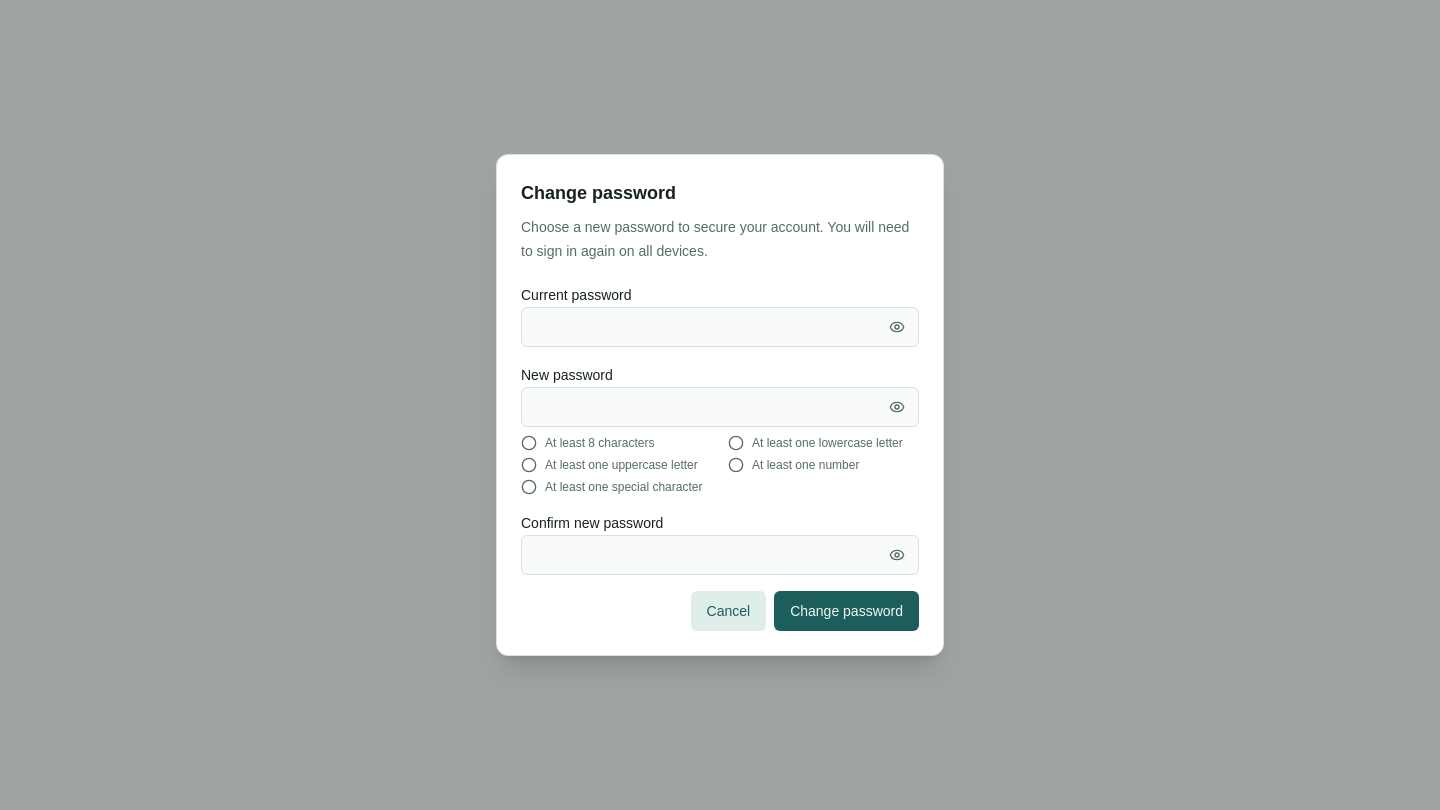
Test: change password dialog › prevents submission until lowercase and uppercase letters are included
The width and height of the screenshot is (1440, 810).
Type "Current1!" into the password field labelled "Current password". click: (720, 327)
box: 521,307 -> 919,347
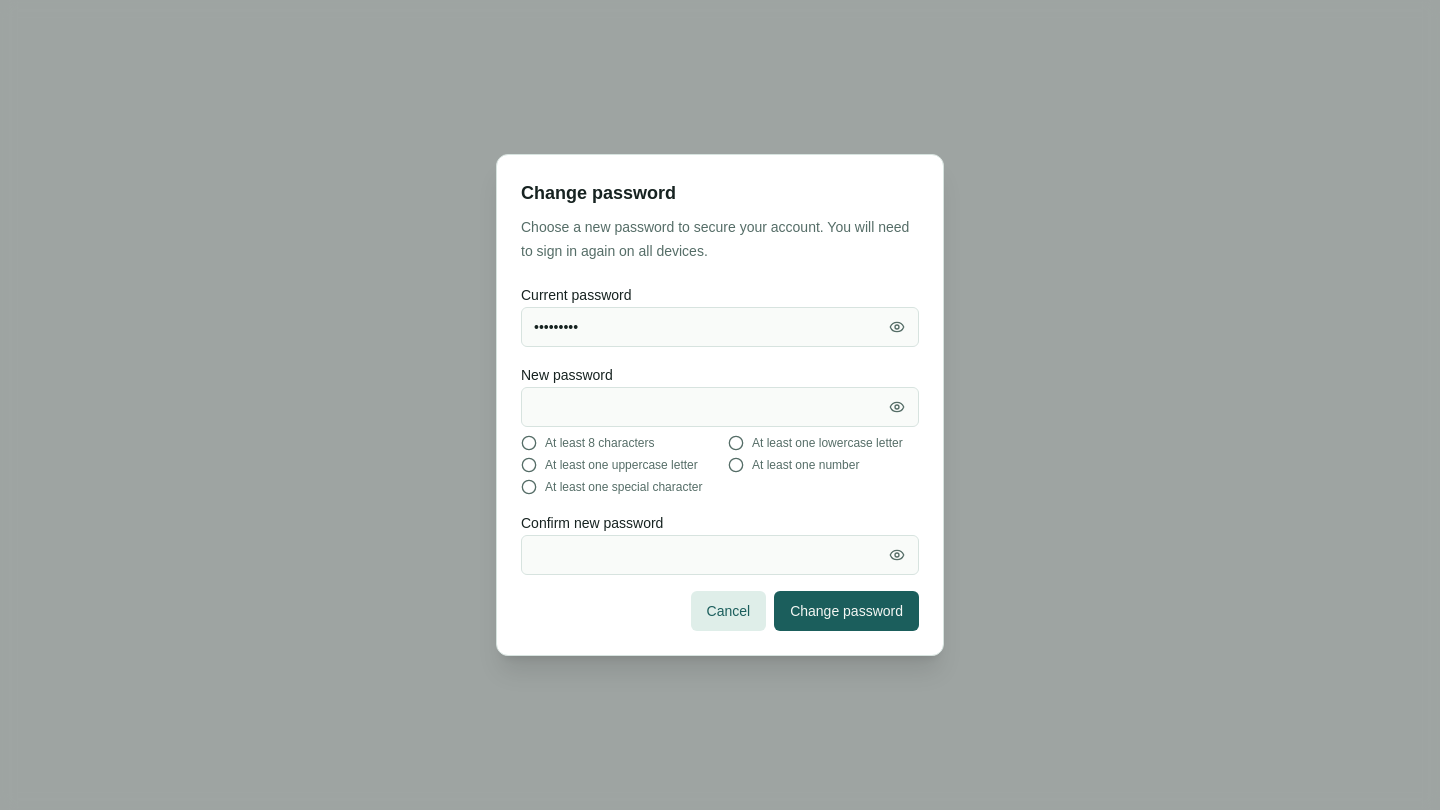
Type "CLINIC123!" into the password field labelled "New password". click: (720, 407)
box: 521,387 -> 919,427
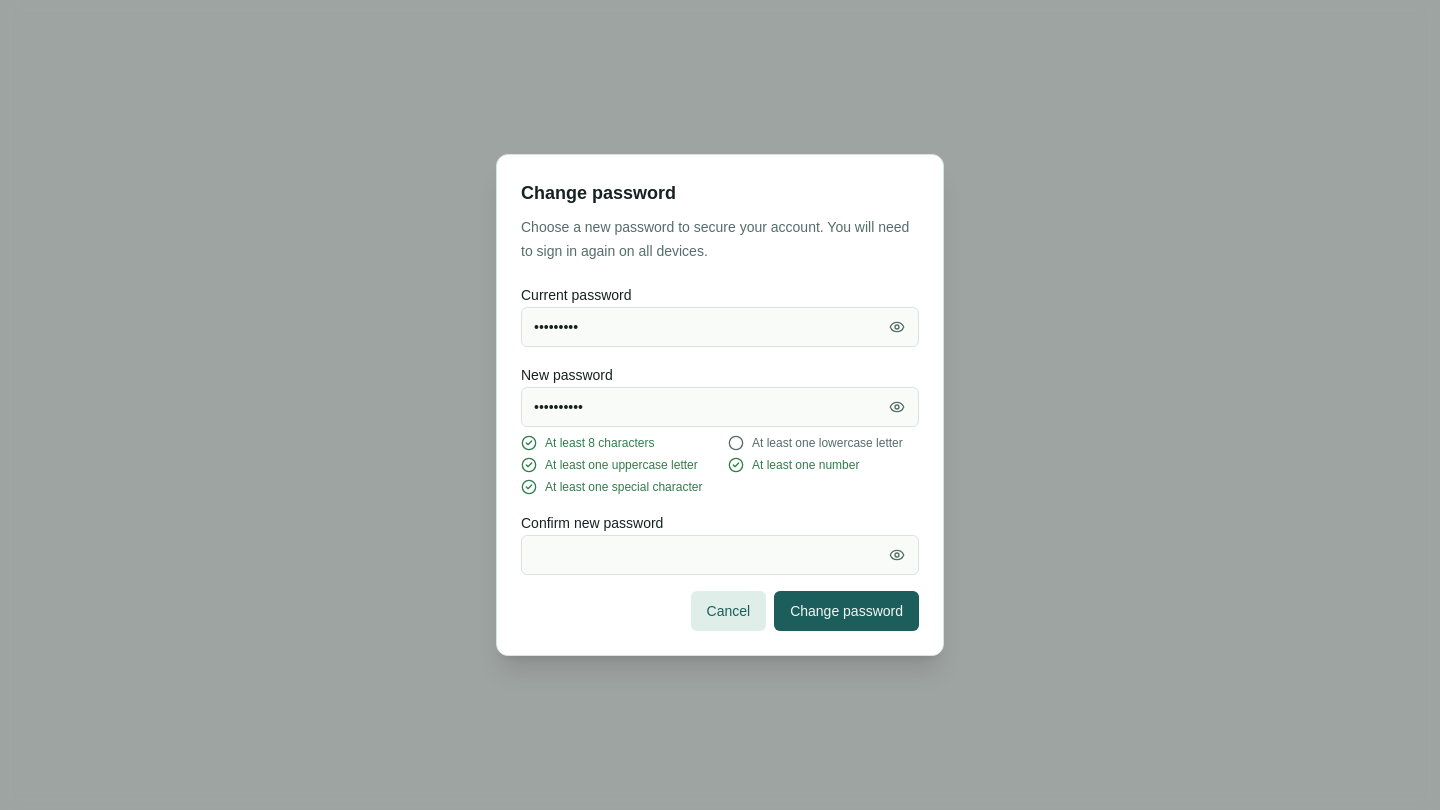
Type "CLINIC123!" into the password field labelled "Confirm new password". click: (720, 555)
box: 521,535 -> 919,575
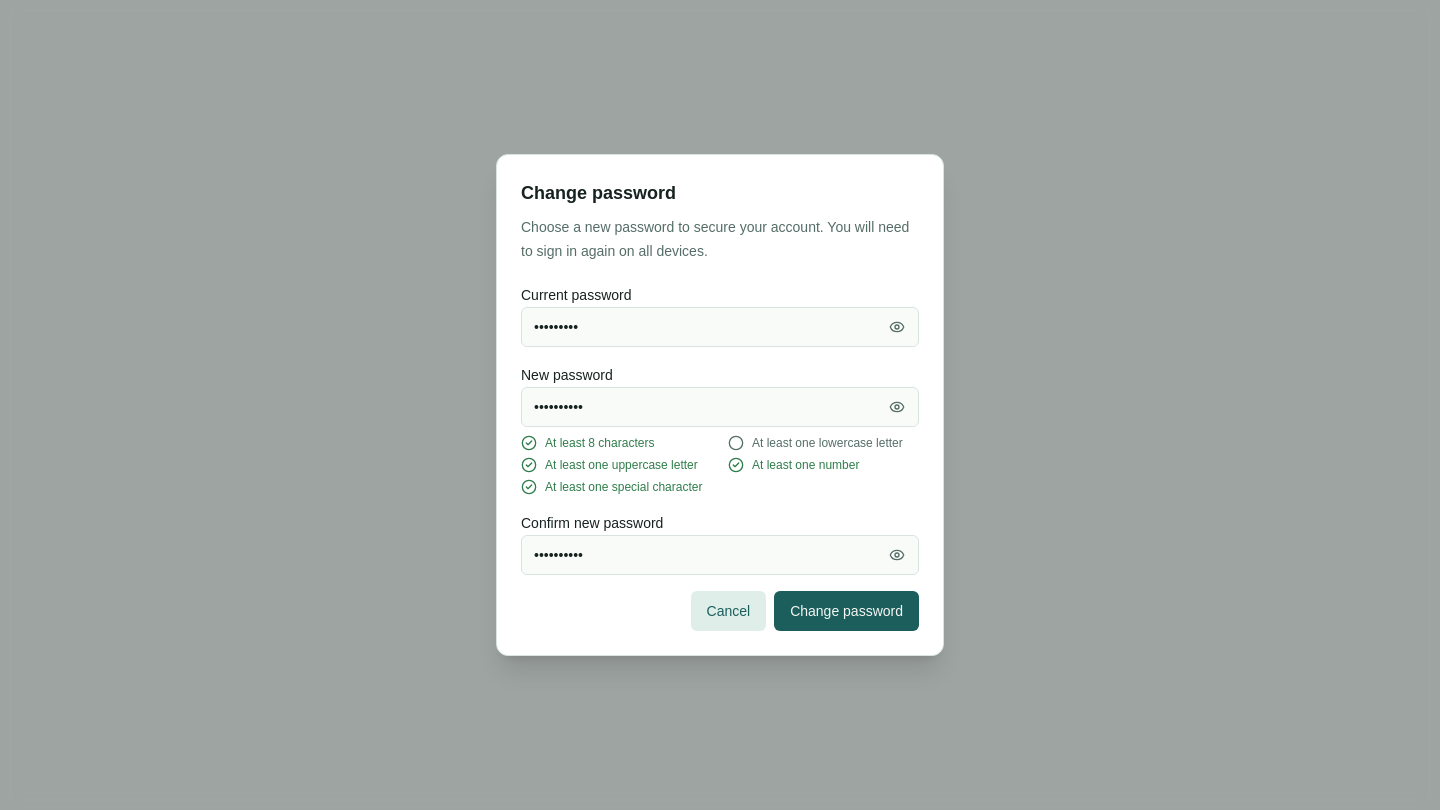
Click the button "Change password". click: (847, 611)
box: 774,591 -> 919,631
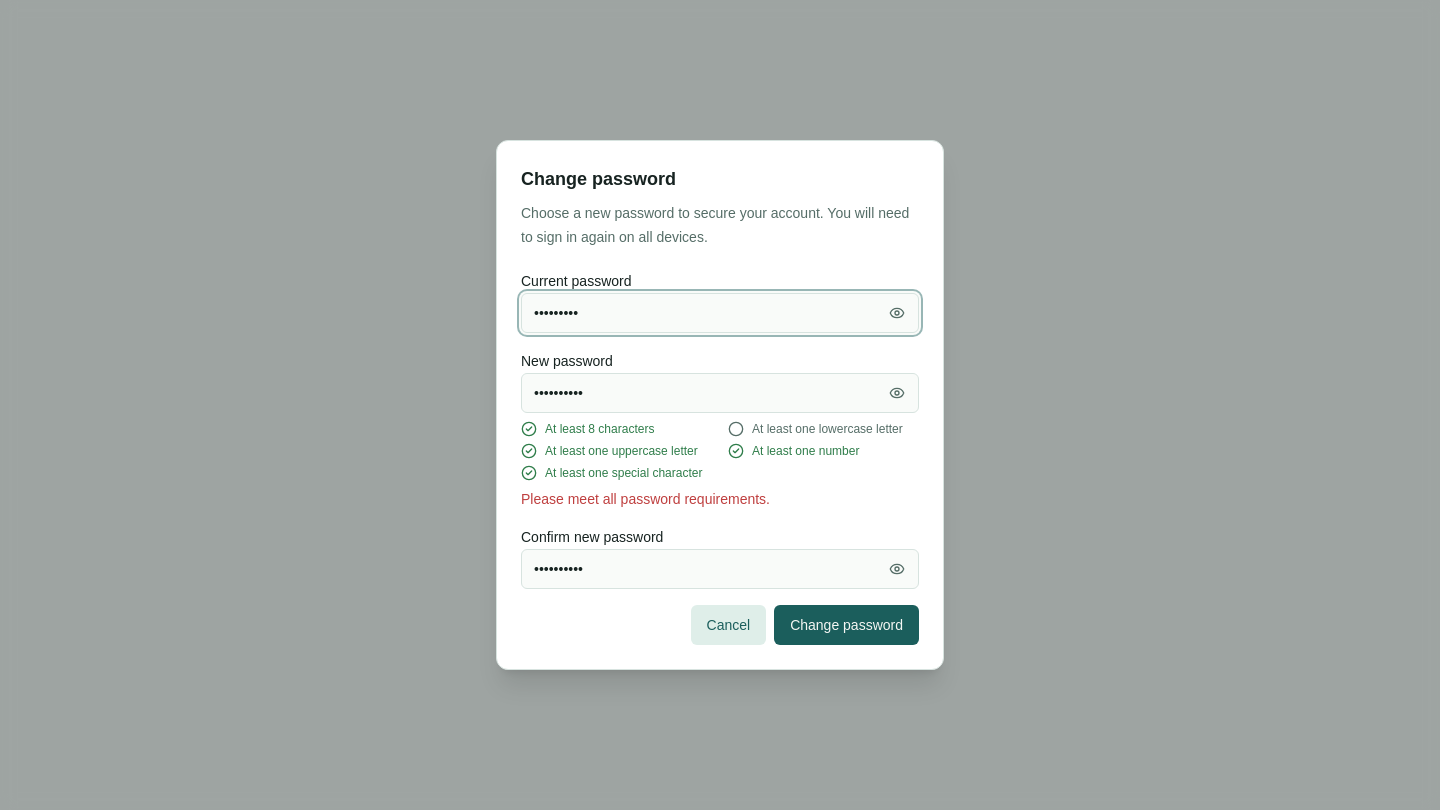
Expected: the text "Please meet all password requirements." is shown, 521,491 -> 770,507
